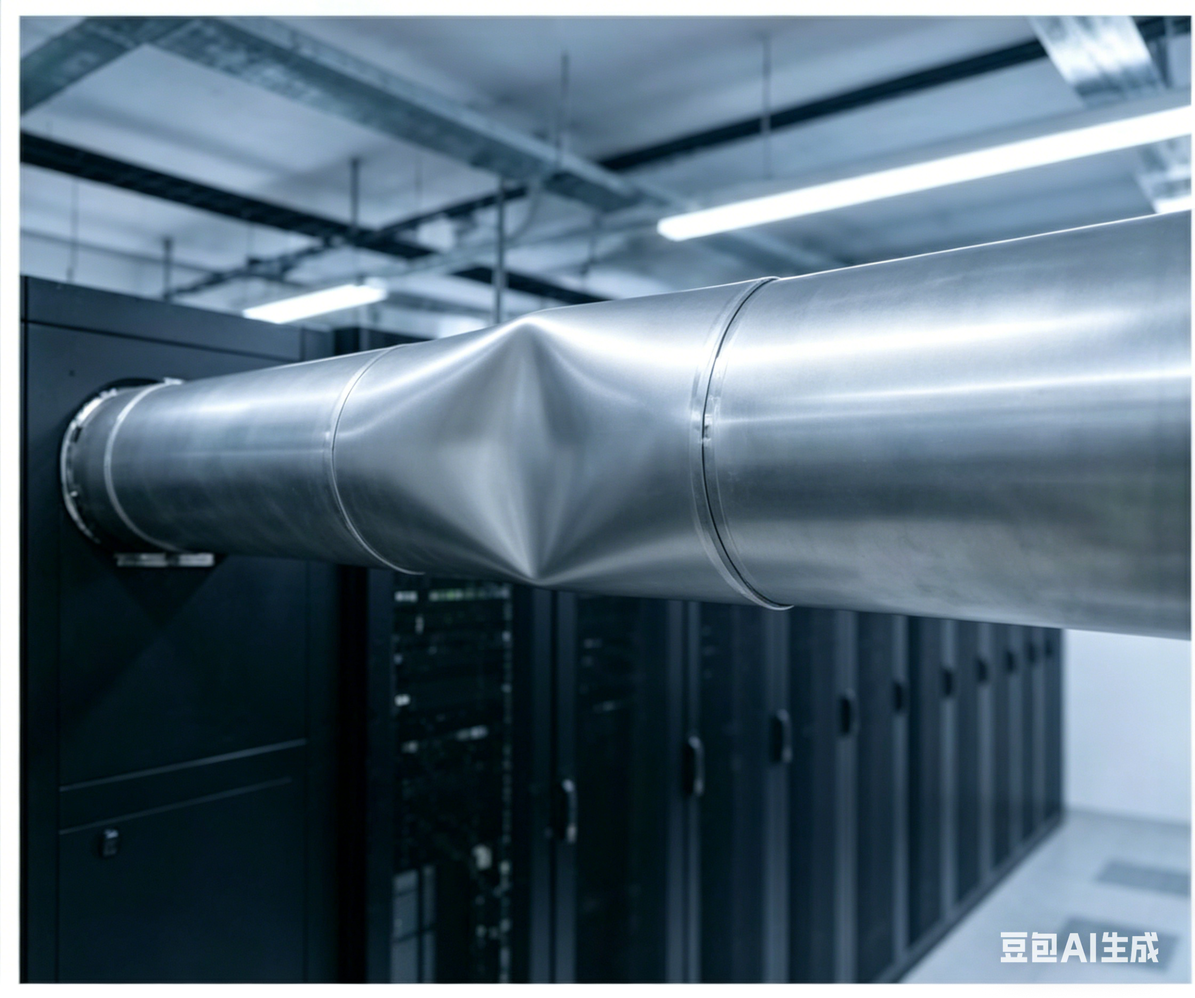Leakage: (427, 305, 624, 598)
